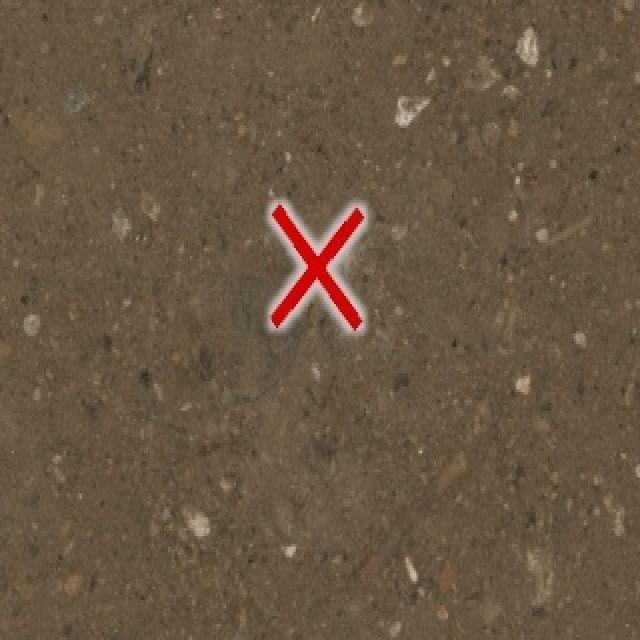x_marker: (271, 204, 363, 327)
